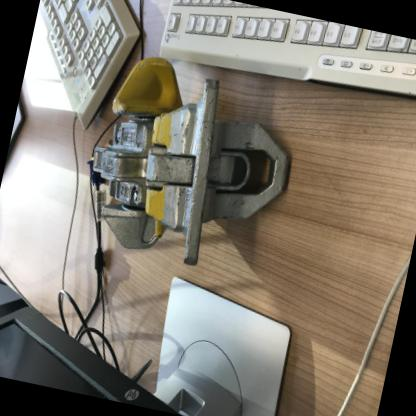Twistlock: (67, 42, 322, 296)
